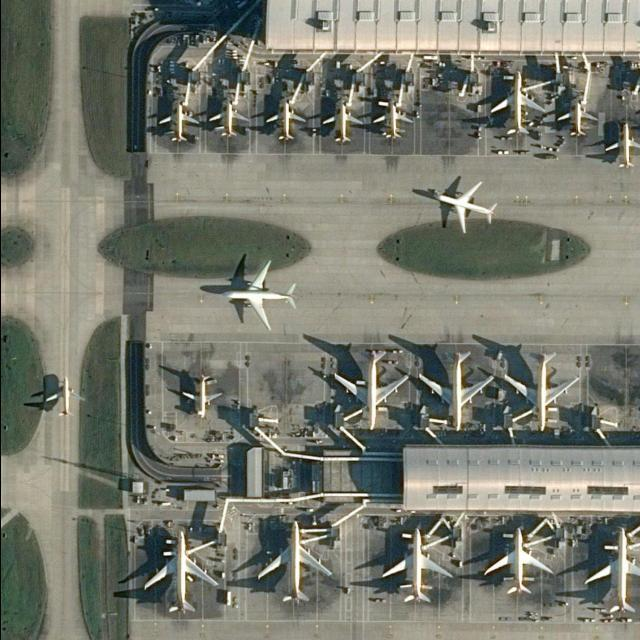Aircraft: (143, 531, 219, 613), (503, 351, 579, 431), (417, 351, 493, 431), (332, 350, 408, 430), (256, 522, 332, 602), (380, 529, 452, 603), (222, 260, 296, 330), (581, 528, 640, 614), (482, 527, 554, 595), (490, 71, 545, 136), (430, 181, 496, 234), (181, 375, 221, 418), (207, 98, 249, 138), (264, 101, 306, 141), (322, 102, 364, 142), (603, 122, 640, 167), (157, 103, 199, 142), (43, 376, 83, 416), (372, 100, 412, 139), (556, 98, 597, 136)
